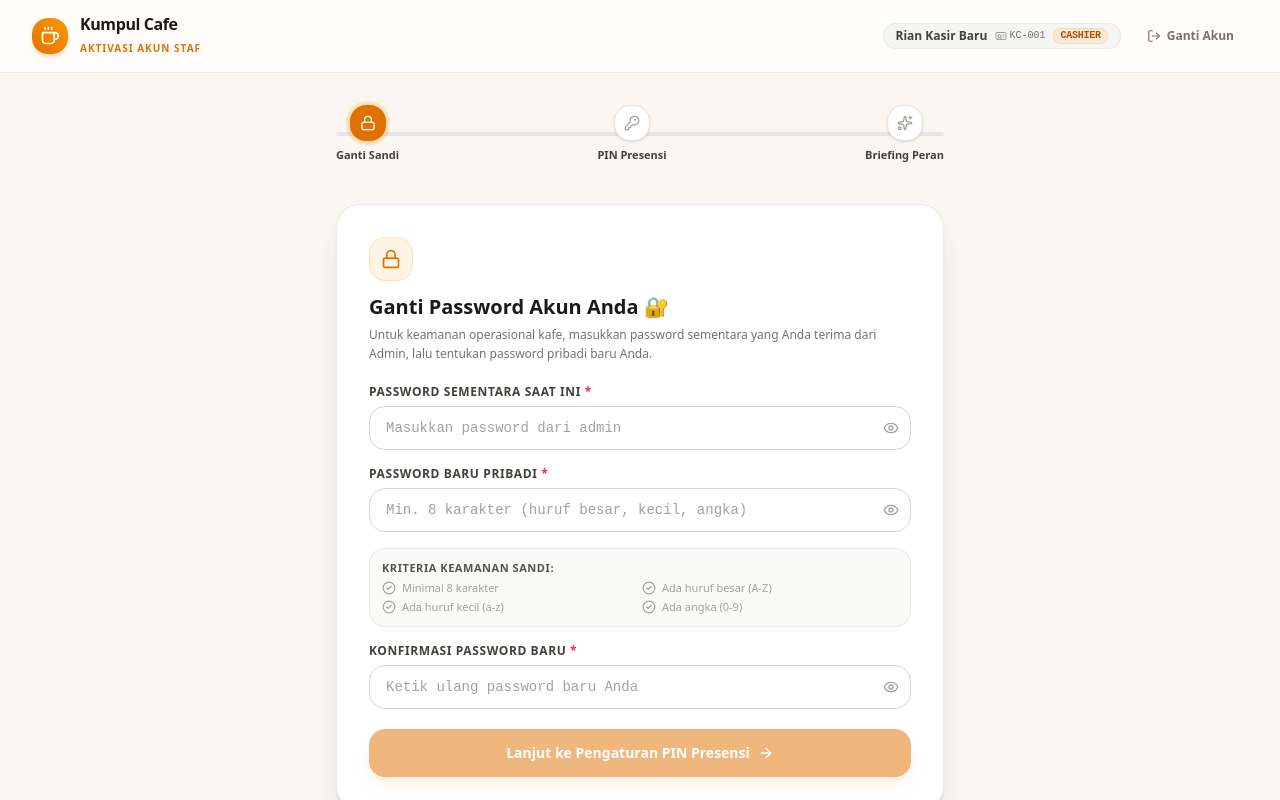
Test case: OnboardingPage Flow › progresses to Step 2 when password criteria are fulfilled
The width and height of the screenshot is (1280, 800).
Note: Fill current password
Step 1. Type "Kumpul#2026" into the password field with placeholder "Masukkan password dari admin" → (640, 428), box [369,406,911,450]
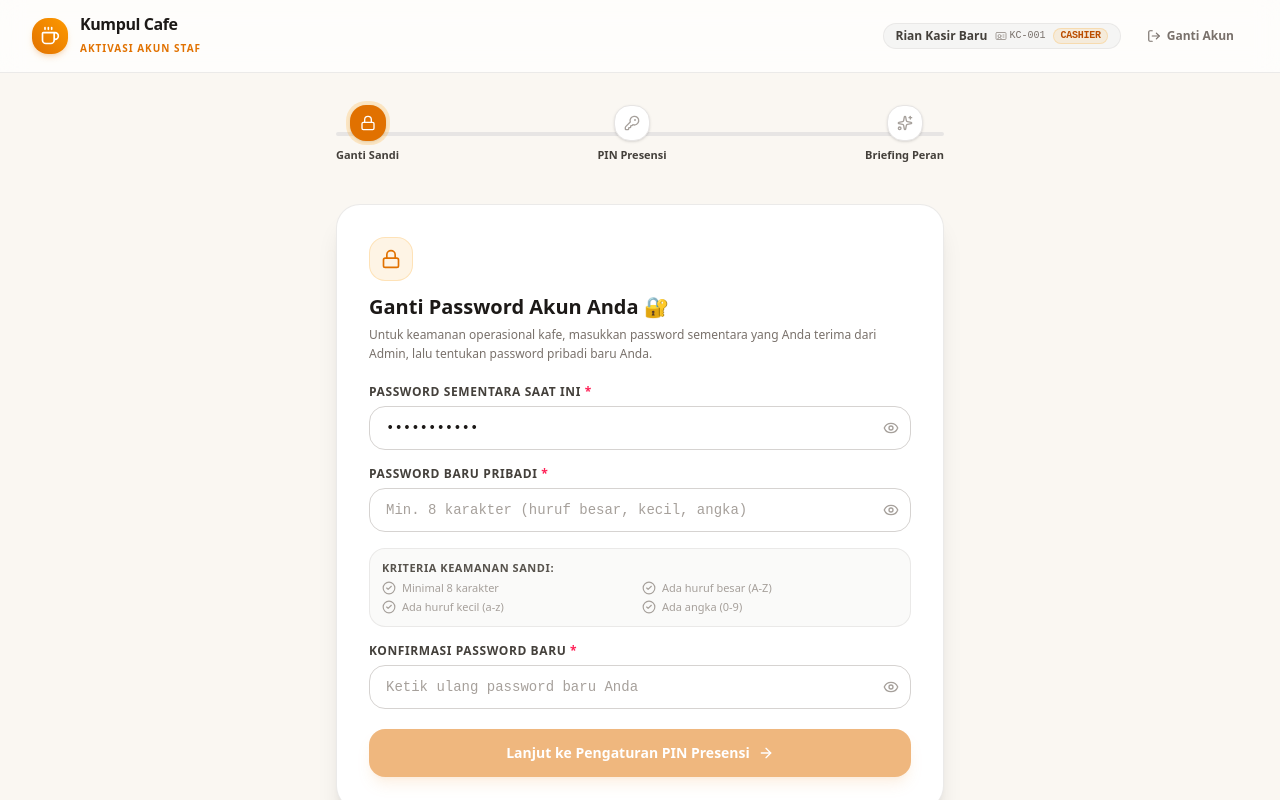
Note: Fill new password (min 8 chars, uppercase, lowercase, digit)
Step 2. Type "RahasiaKopi123" into the password field with placeholder "Min. 8 karakter (huruf besar, kecil, angka)" → (640, 510), box [369,488,911,532]
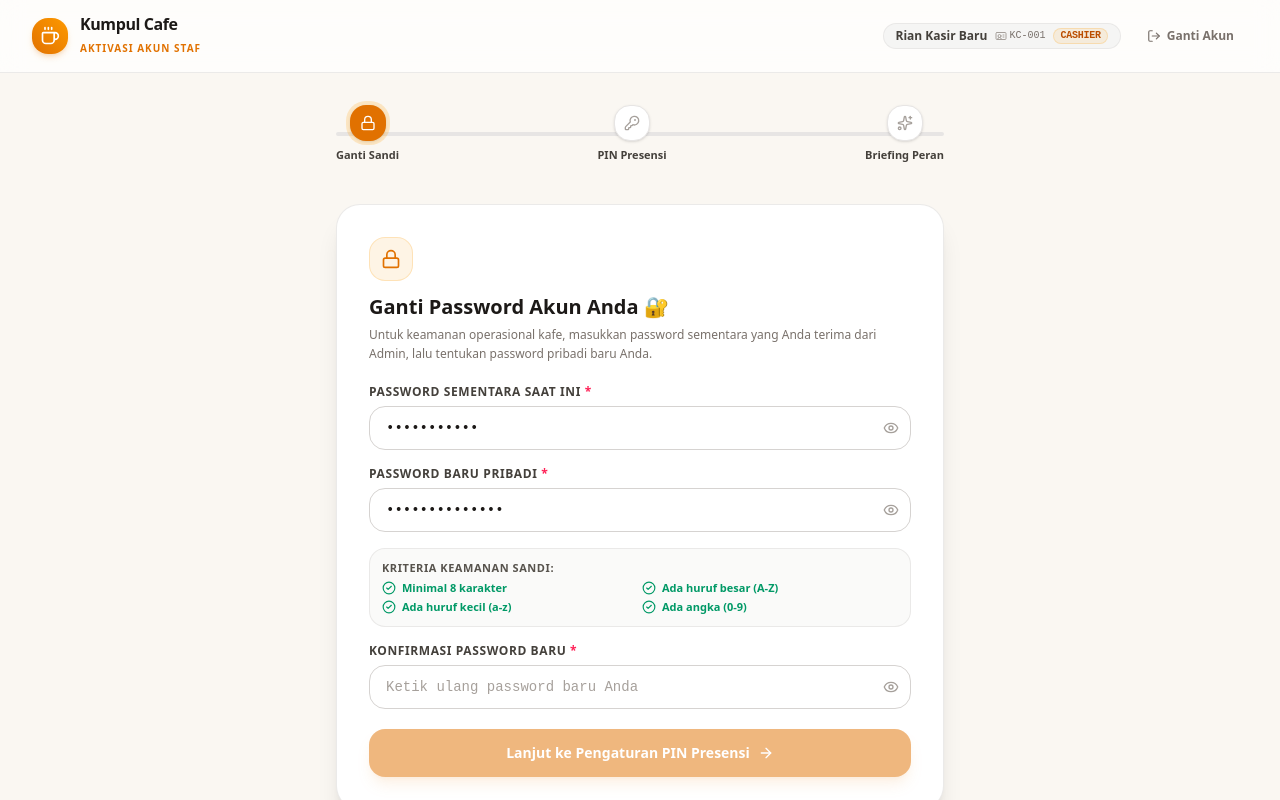
Note: Fill confirm password
Step 3. Type "RahasiaKopi123" into the password field with placeholder "Ketik ulang password baru Anda" → (640, 688), box [369,666,911,710]
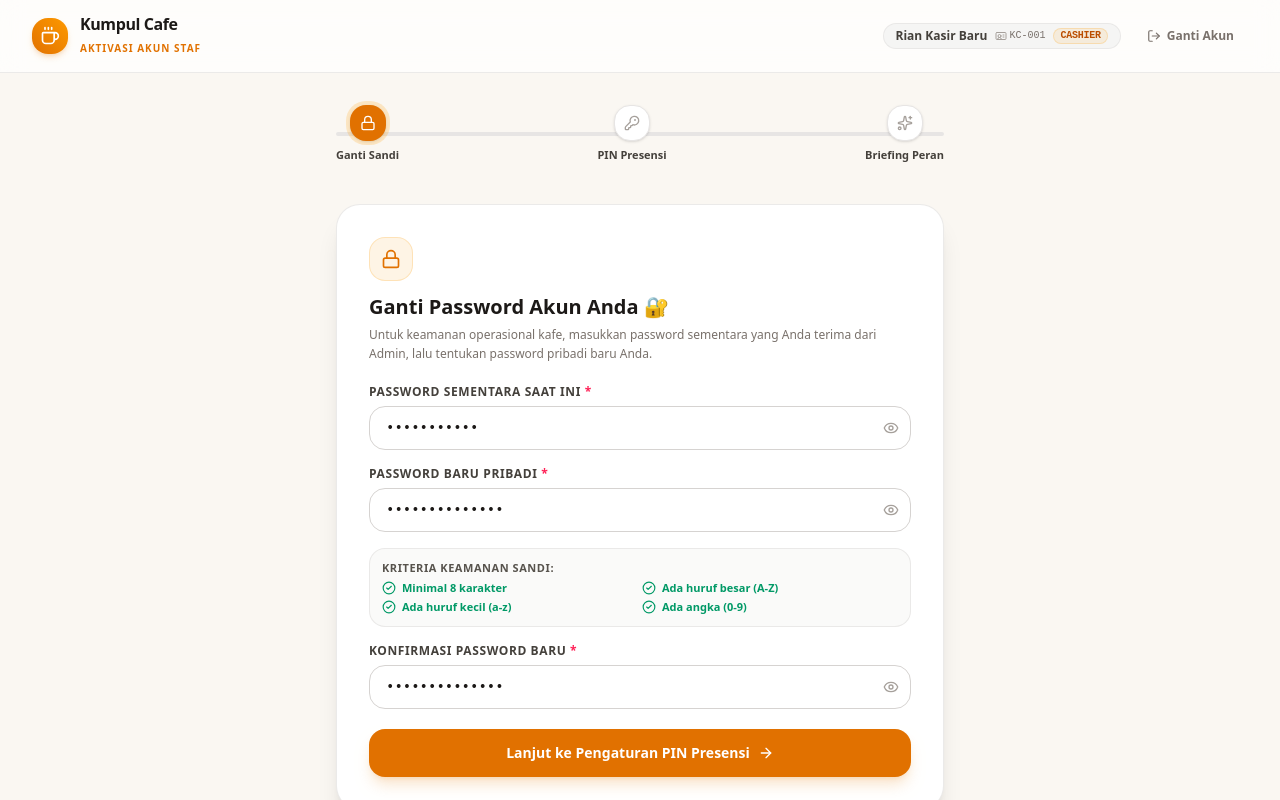
Check: the button "Lanjut ke Pengaturan PIN Presensi" is enabled
Step 4. Click the button "Lanjut ke Pengaturan PIN Presensi" → (640, 754), box [369,730,911,778]
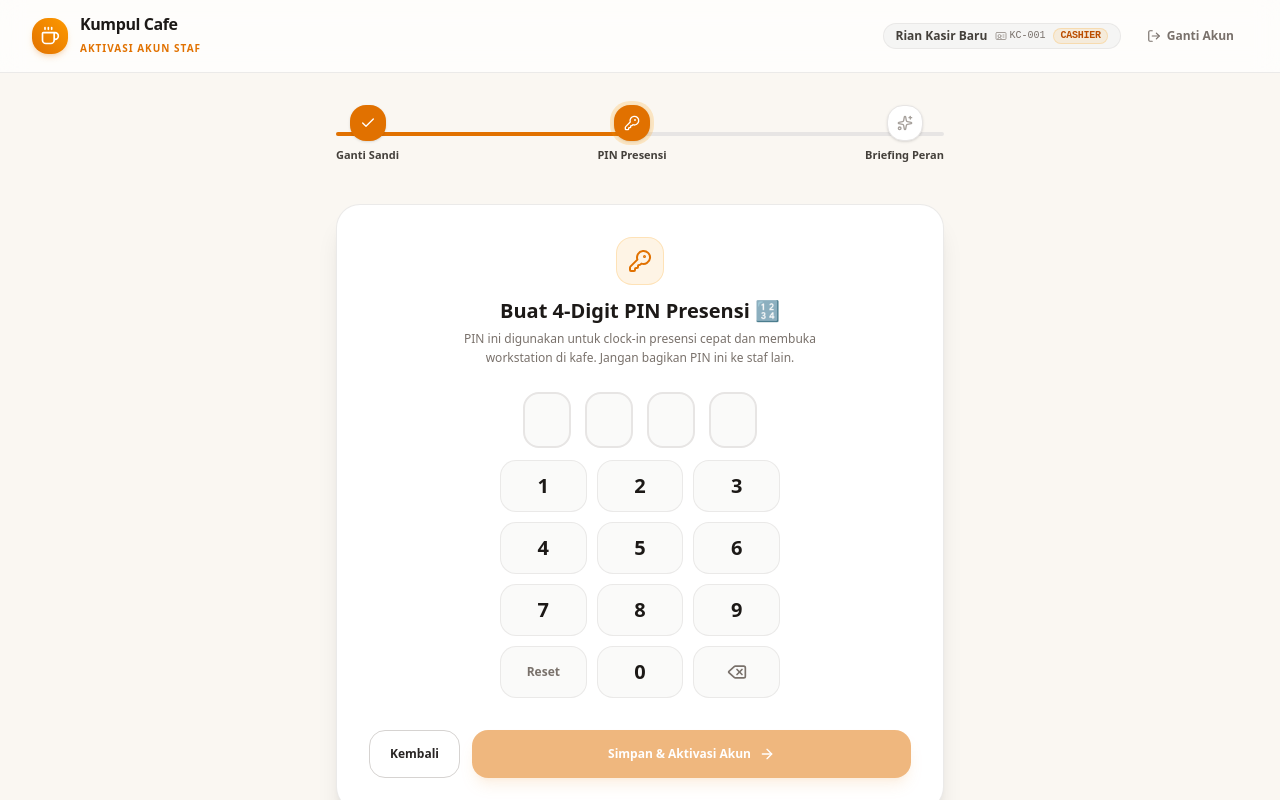
Check: the heading "Buat 4-Digit PIN Presensi 🔢" is shown, box [500,296,780,324]
